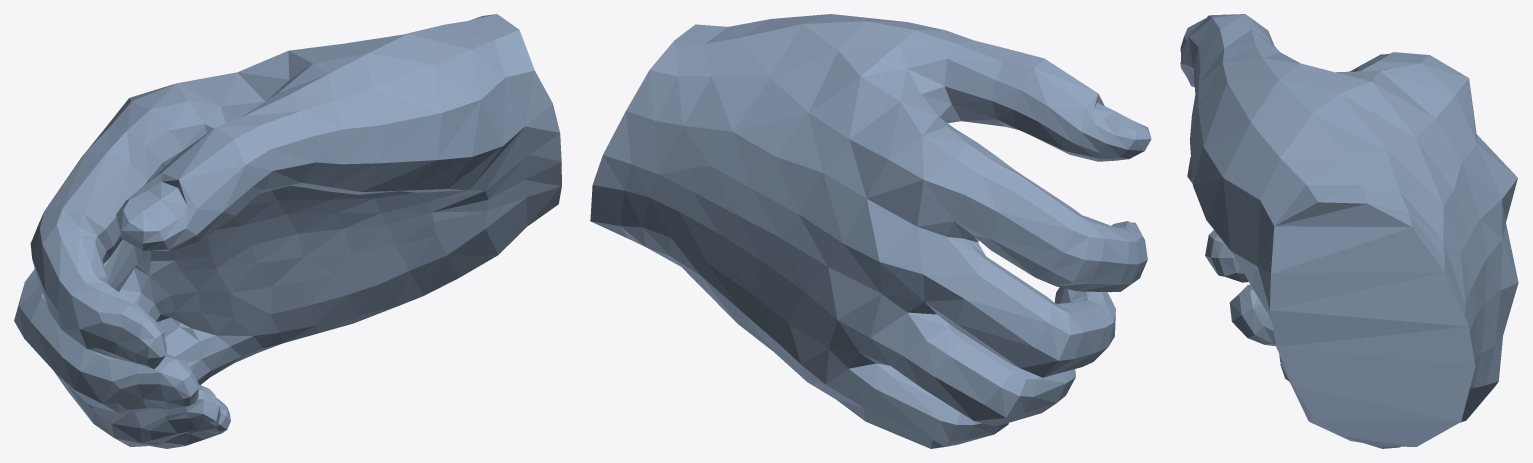
File: frame_00018_0.obj
3 views of the same model, side by side, from view 1: azimuth 30°, elevation 25°; view 2: azimuth 150°, elevation 25°; view 3: azimuth 270°, elevation 25° (orthographic). The views are drawn at different scales.
Size of the model in its own units: 0.1475 by 0.103 by 0.0766.
